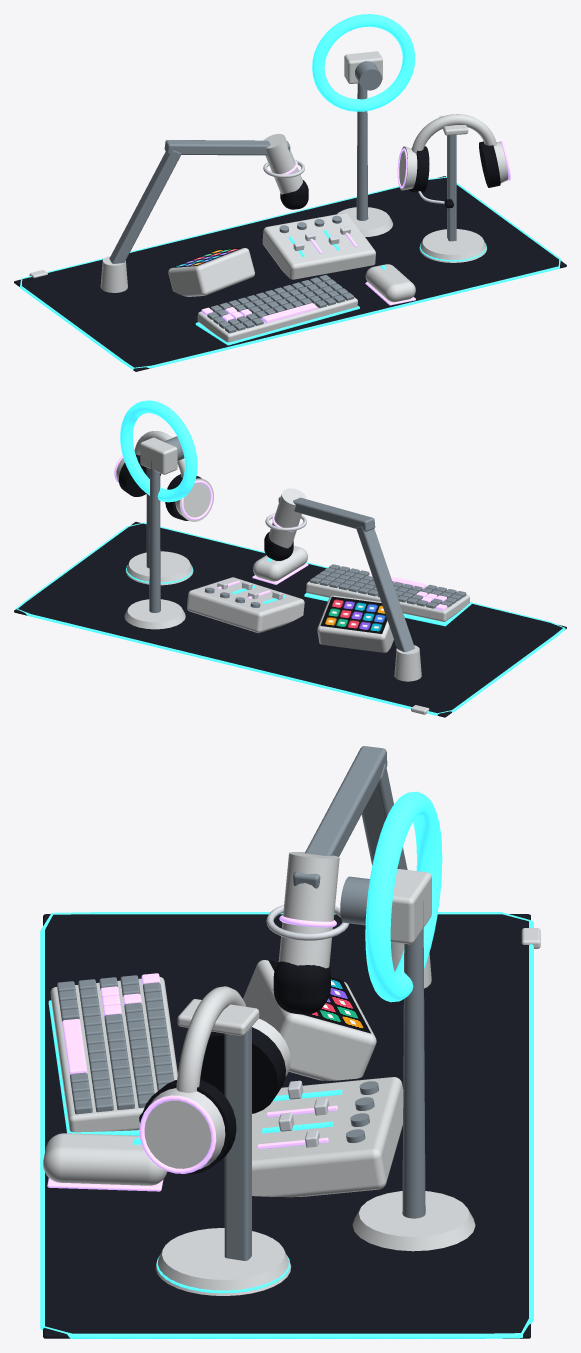
Rendered from atelier-gaming-loadout-streamer-arctic.glb.
The picture shows the model from 3 angles, top to bottom: view 1: azimuth 30°, elevation 25°; view 2: azimuth 150°, elevation 25°; view 3: azimuth 270°, elevation 25°; orthographic projection. The views are drawn at different scales.
Visible parts, largest first — view 1: object 1, object 13, object 28, object 2, object 11, object 5, object 101, object 31, object 6, object 26, object 8, object 98 (+11 smaller); view 2: object 1, object 13, object 28, object 2, object 5, Gaming macro key display, object 11, object 26, object 31, object 101, object 27, object 6 (+9 smaller); view 3: object 1, object 13, object 28, object 2, object 11, object 101, object 26, object 103, object 27, object 98, object 31, object 8 (+16 smaller).
Part boxes in pixels (x1,y1,x2,y2): object 1: (14, 176, 566, 371); object 13: (262, 213, 375, 279); object 28: (312, 14, 415, 111); object 2: (19, 177, 560, 369); object 11: (168, 248, 254, 296); object 5: (109, 150, 181, 263); object 101: (419, 229, 486, 262); object 31: (197, 279, 357, 342); object 6: (164, 140, 290, 155); object 26: (356, 83, 368, 220); object 8: (263, 134, 302, 194); object 98: (365, 264, 415, 302); object 1: (14, 522, 566, 717); object 13: (187, 577, 304, 633); object 28: (120, 400, 197, 502); object 2: (15, 522, 565, 715); object 5: (356, 526, 414, 652); Gaming macro key display: (320, 596, 387, 633); object 11: (317, 595, 393, 652); object 26: (149, 461, 160, 612); object 31: (306, 574, 469, 621); object 101: (125, 551, 193, 585); object 27: (124, 599, 185, 629); object 6: (278, 496, 375, 531); object 1: (43, 914, 530, 1338); object 13: (252, 1077, 403, 1197); object 28: (365, 791, 442, 1002); object 2: (40, 912, 533, 1338); object 11: (243, 960, 376, 1080); object 101: (155, 1228, 291, 1295); object 26: (402, 901, 425, 1218); object 103: (224, 1027, 251, 1260); object 27: (352, 1191, 475, 1251); object 98: (43, 1133, 167, 1185); object 31: (50, 977, 177, 1132); object 8: (278, 852, 339, 968).
Bounding box in the file's own units: 0.9452 × 0.4531 × 0.4716.
8 materials, 1 textured.
